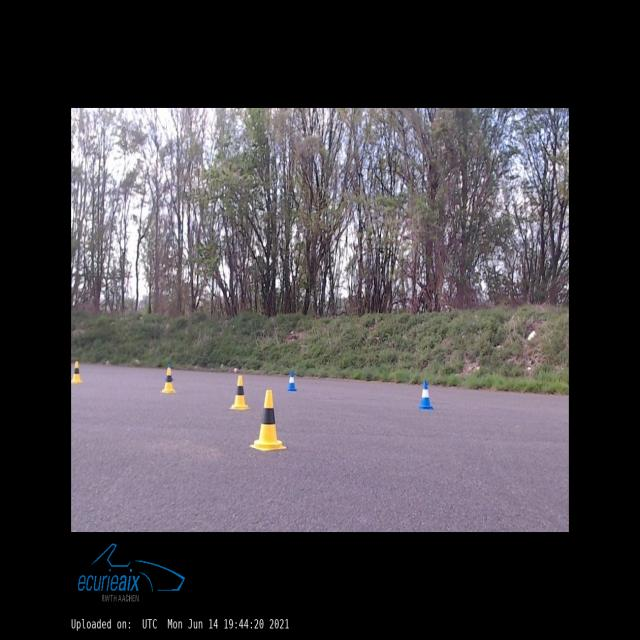blue_cone: (419, 381, 433, 409), (287, 372, 297, 391)
yellow_cone: (250, 390, 286, 450), (230, 376, 249, 410), (161, 367, 176, 393), (71, 361, 83, 382)
